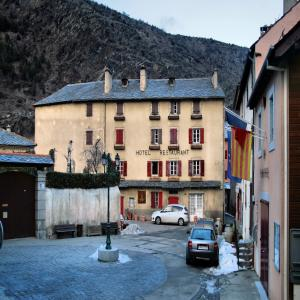Vehicle-registration-plate: (198, 246, 209, 252)
